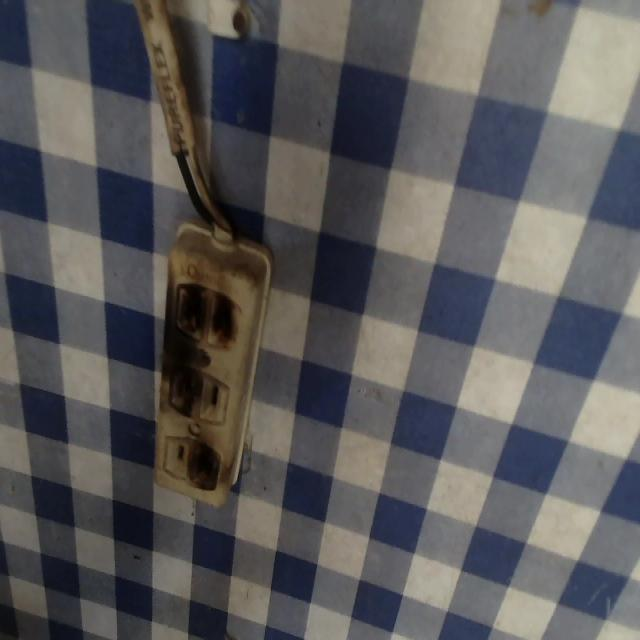-: (171, 279, 237, 345), (165, 355, 198, 416), (189, 439, 218, 493)
